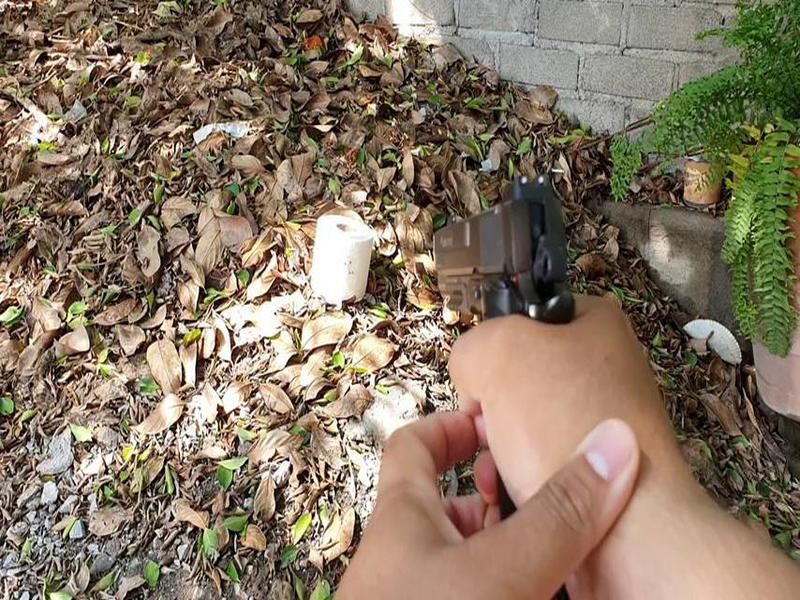Pistola: (412, 159, 593, 383)
